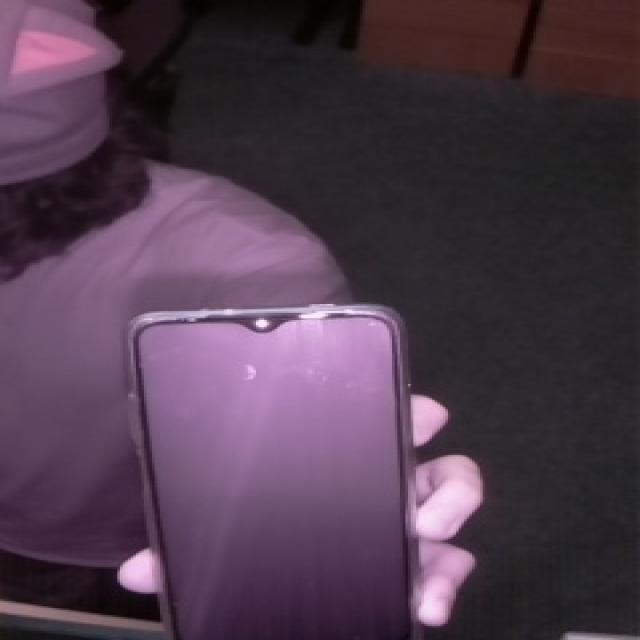phone: (108, 290, 446, 640)
